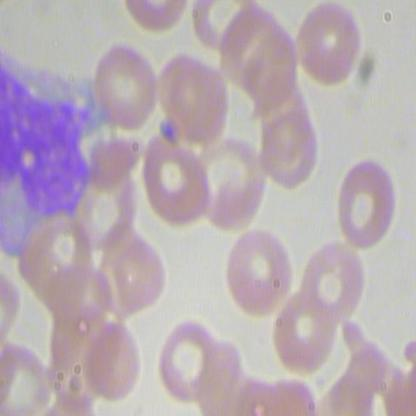RBC: (138, 129, 212, 224), (221, 226, 294, 322), (331, 153, 399, 252), (291, 1, 366, 88), (155, 315, 224, 408), (89, 38, 157, 131), (80, 314, 148, 406), (298, 238, 365, 324), (270, 288, 337, 374)
WBC: (1, 52, 114, 263)
